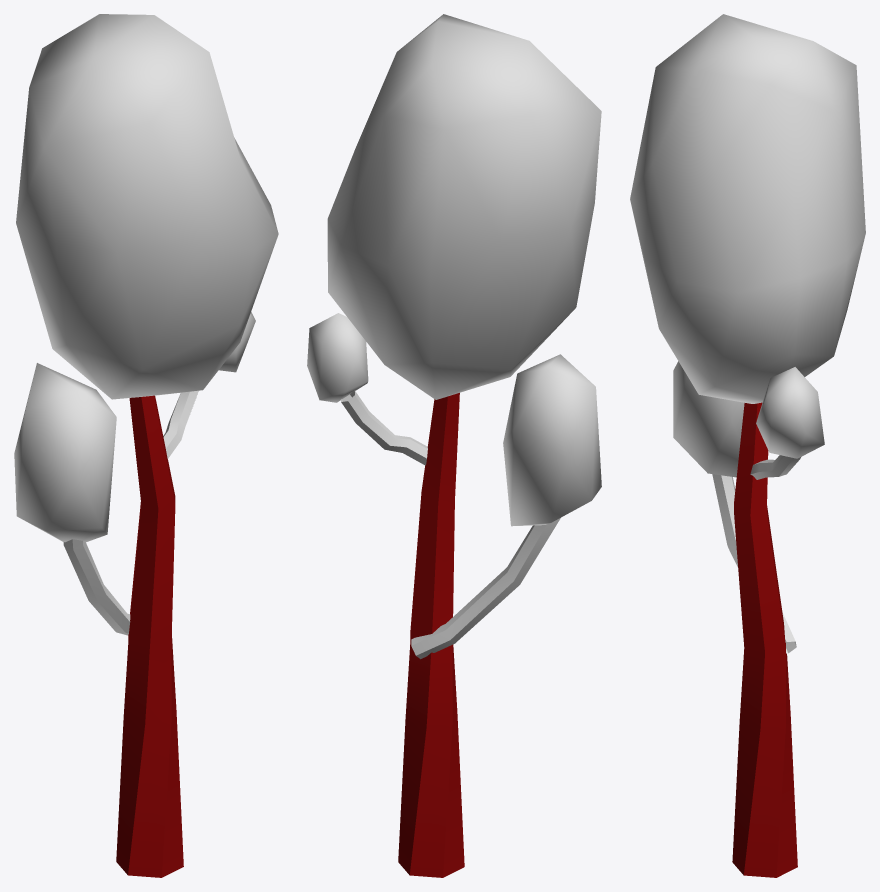
File: SM_LargeBirch.fbx
The picture shows the model from 3 angles, left to right: view 1: azimuth 30°, elevation 25°; view 2: azimuth 150°, elevation 25°; view 3: azimuth 270°, elevation 25°; orthographic projection. The views are drawn at different scales.
Visible parts, largest first — view 1: Large_LeafTwo_Birch, Small_Truck_Birch, Small_LeafsOne_Birch001, Small_Branch_Birch001, Small_BranchTwo_Birch0, Small_LeafsThree_Birch; view 2: Large_LeafTwo_Birch, Small_Truck_Birch, Small_LeafsOne_Birch001, Small_LeafsThree_Birch, Small_Branch_Birch001, Small_BranchTwo_Birch0; view 3: Large_LeafTwo_Birch, Small_Truck_Birch, Small_LeafsOne_Birch001, Small_LeafsThree_Birch, Small_Branch_Birch001, Small_BranchTwo_Birch0.
Part boxes in pixels (x1,y1,x2,y2): Large_LeafTwo_Birch: [16, 14, 278, 399]; Small_Truck_Birch: [116, 395, 183, 877]; Small_LeafsOne_Birch001: [14, 363, 116, 542]; Small_Branch_Birch001: [63, 539, 130, 635]; Small_BranchTwo_Birch0: [163, 390, 198, 458]; Small_LeafsThree_Birch: [219, 312, 255, 372]; Large_LeafTwo_Birch: [327, 14, 601, 399]; Small_Truck_Birch: [398, 393, 464, 877]; Small_LeafsOne_Birch001: [503, 354, 601, 526]; Small_LeafsThree_Birch: [307, 313, 368, 402]; Small_Branch_Birch001: [411, 518, 560, 659]; Small_BranchTwo_Birch0: [341, 391, 427, 465]; Large_LeafTwo_Birch: [630, 14, 865, 403]; Small_Truck_Birch: [732, 402, 797, 877]; Small_LeafsOne_Birch001: [673, 361, 744, 477]; Small_LeafsThree_Birch: [756, 367, 824, 458]; Small_Branch_Birch001: [712, 474, 796, 653]; Small_BranchTwo_Birch0: [750, 455, 800, 479].
Bounding box in the file's own units: 32.92 × 104 × 26.99.
